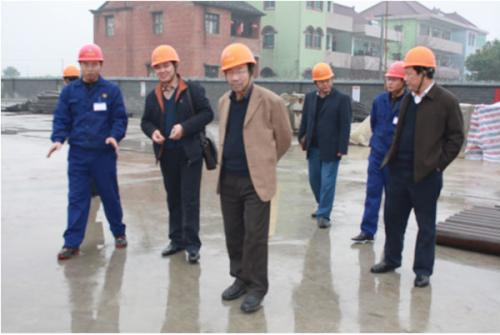boots: (222, 278, 246, 300), (240, 293, 264, 311), (370, 259, 400, 272), (161, 241, 185, 255), (58, 246, 79, 260), (351, 231, 374, 241), (414, 273, 429, 286), (114, 235, 127, 248), (188, 249, 200, 262), (317, 216, 331, 227)
hard-hat: (220, 43, 256, 72), (401, 46, 436, 69), (151, 44, 180, 67), (77, 42, 104, 61), (312, 63, 334, 81), (385, 60, 407, 78)
person: (370, 46, 464, 287), (215, 42, 293, 313), (45, 43, 128, 260), (139, 44, 215, 262), (351, 60, 410, 242), (297, 62, 353, 227)
ppe-suit: (48, 74, 129, 248), (355, 88, 409, 238)
